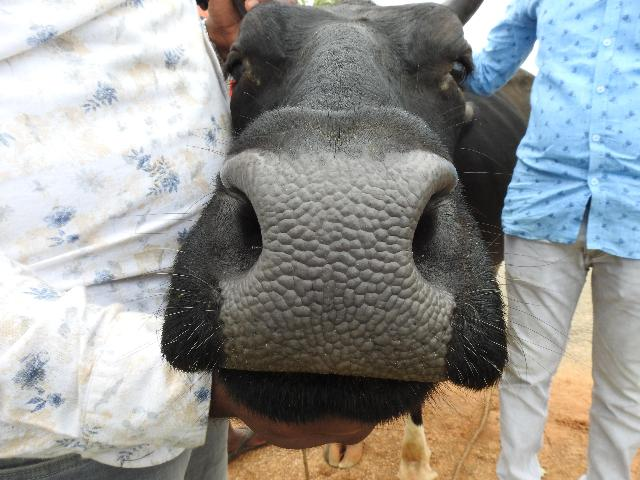Muzzle: (222, 156, 440, 364)
